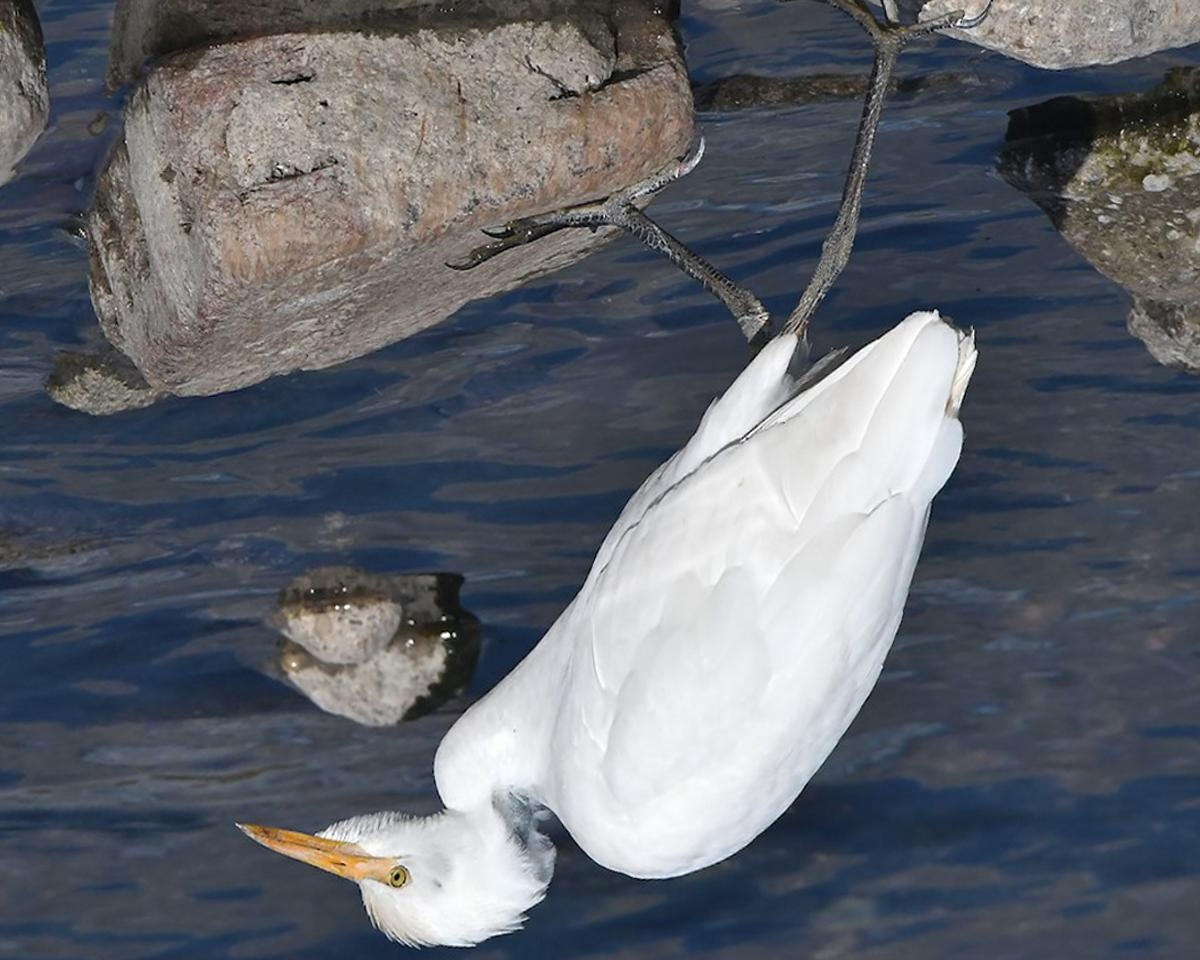egret: (227, 1, 981, 954)
